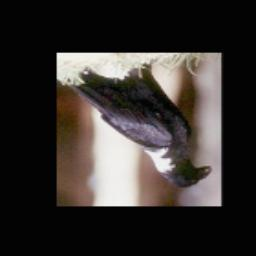Crow: (63, 60, 214, 193)
